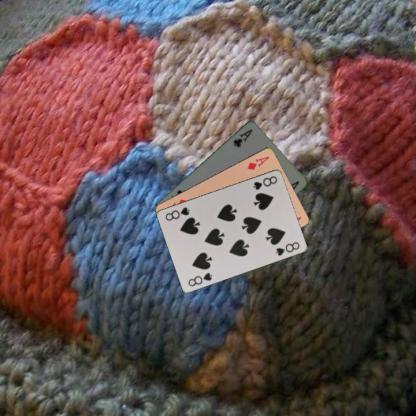8s: (185, 270, 214, 287), (251, 172, 278, 190)
Ac: (231, 126, 254, 148)
Ad: (244, 154, 270, 171)
